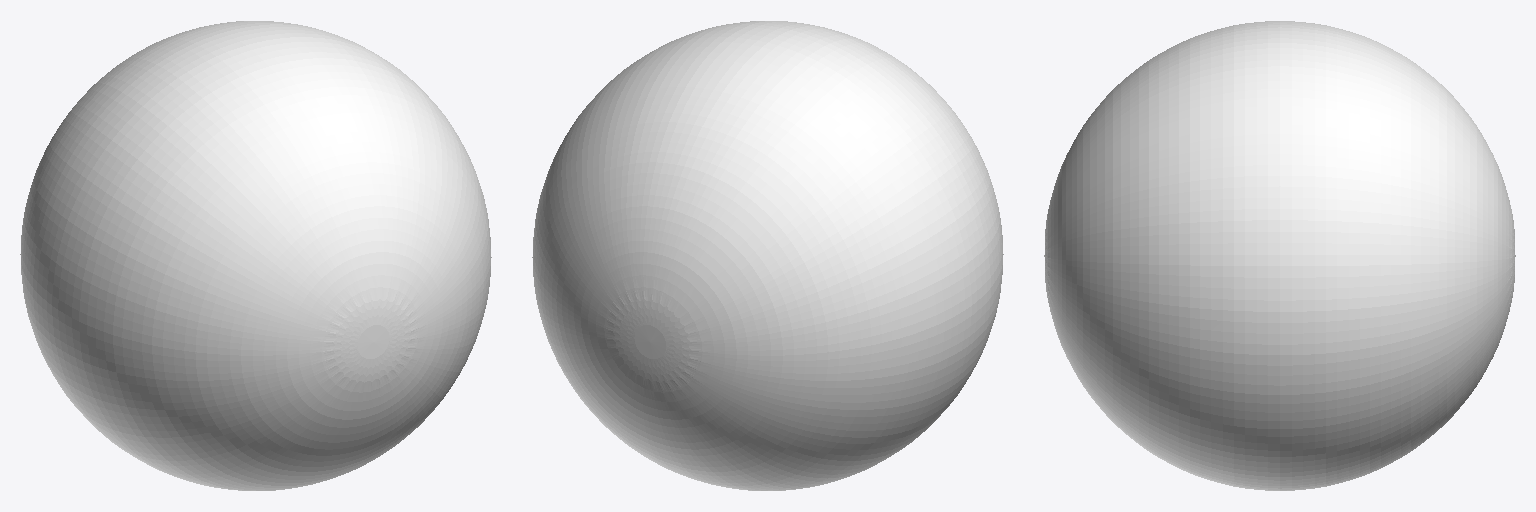
URDF robot description (bola.urdf):
<?xml version="1.0" ?>
<robot name="bola.urdf">
  <link name="baseLink">
    <inertial>
      <origin rpy="0 0 0" xyz="0 0 0"/>
       <mass value="10.0"/>
       <inertia ixx="0" ixy="0" ixz="0" iyy="0" iyz="0" izz="0"/>
    </inertial>
    <visual>
      <origin rpy="0 0 0" xyz="0 0 0"/>
      <geometry>
        <mesh filename="bola.obj" scale="1.0 1.0 1.0"/>
      </geometry>
      <material name="white">
       <color rgba="1 1 1 1"/>
     </material>
    </visual>
    <collision>
      <origin rpy="0 0 0" xyz="0 0 0"/>
      <geometry>
        <mesh filename="bola.obj" scale="1.0 1.0 1.0"/>
        <!-- You could also specify the collision (for the bola) with a "box" tag: -->
        <!-- <box size=".06 .06 .06"/> -->
      </geometry>
    </collision>
  </link>
</robot>
        

--- Facts derived from the render (not from the file) ---
The picture shows the robot from 3 angles, left to right: view 1: azimuth 30°, elevation 25°; view 2: azimuth 150°, elevation 25°; view 3: azimuth 270°, elevation 25°; orthographic projection.
Robot: bola.urdf — 1 links, 0 joints (none); root link baseLink; default pose: all joints at 0.
Visible links, largest first — view 1: baseLink; view 2: baseLink; view 3: baseLink.
Link boxes in pixels (left/top/right/bottom): baseLink: left=20, top=21, right=491, bottom=490; baseLink: left=532, top=21, right=1003, bottom=490; baseLink: left=1044, top=21, right=1515, bottom=490.
Bounding box of the posed robot: 1.5 × 1.5 × 1.5 m (x, y, z).
1 mesh visuals loaded from 1 distinct referenced files (1 OBJ).